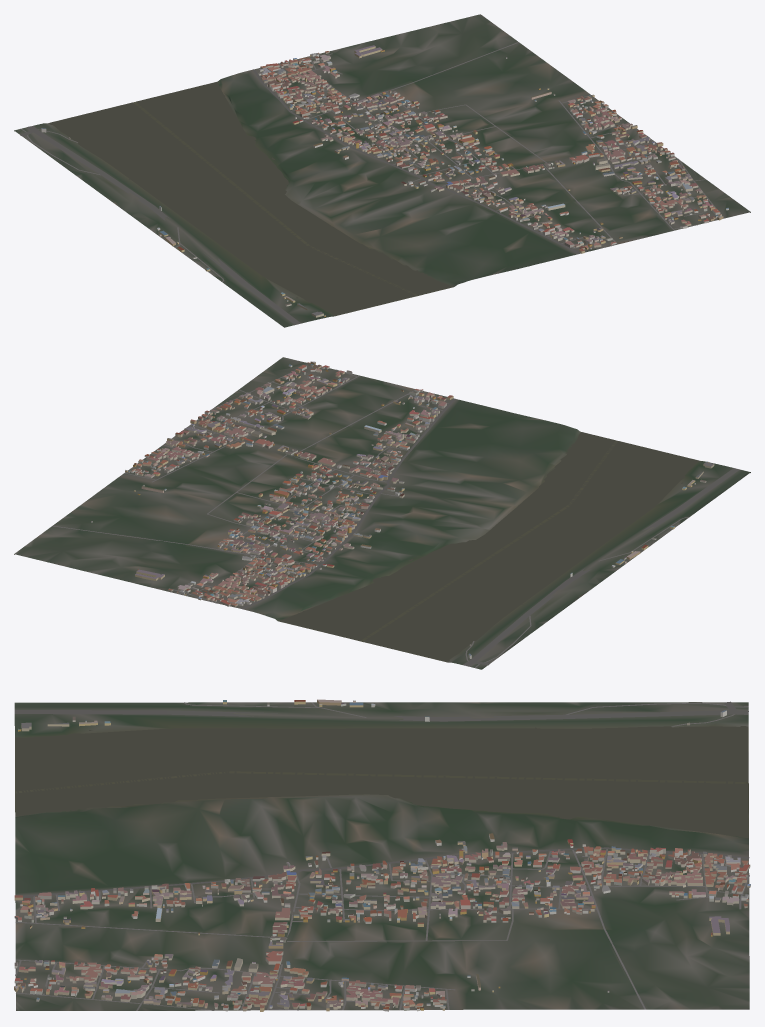
3 views of the same model, one above another, from view 1: azimuth 30°, elevation 25°; view 2: azimuth 150°, elevation 25°; view 3: azimuth 270°, elevation 25° (orthographic). The views are drawn at different scales.
Visible parts, largest first — view 1: ground, water, buildings, roads; view 2: ground, water, buildings, roads; view 3: ground, water, buildings, roads.
Part boxes in pixels (bbox=[...]): ground: bbox=[14, 14, 750, 327]; water: bbox=[49, 82, 452, 315]; buildings: bbox=[41, 45, 728, 317]; roads: bbox=[20, 42, 724, 324]; ground: bbox=[14, 357, 750, 669]; water: bbox=[279, 432, 699, 661]; buildings: bbox=[91, 361, 714, 658]; roads: bbox=[52, 365, 739, 667]; ground: bbox=[14, 702, 749, 1010]; water: bbox=[15, 726, 748, 838]; buildings: bbox=[14, 699, 750, 1011]; roads: bbox=[14, 701, 749, 1010].
Size of the model in its own units: 1412 by 26.72 by 1408.
